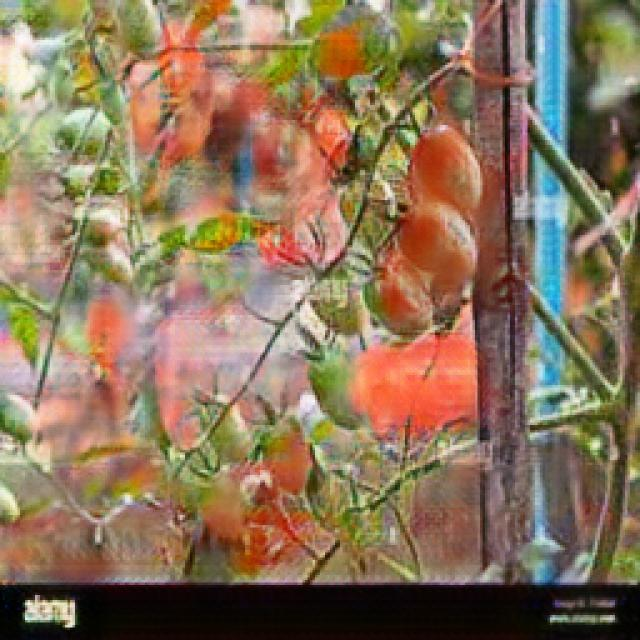overripe tomato: (410, 129, 484, 207), (396, 208, 480, 276)
